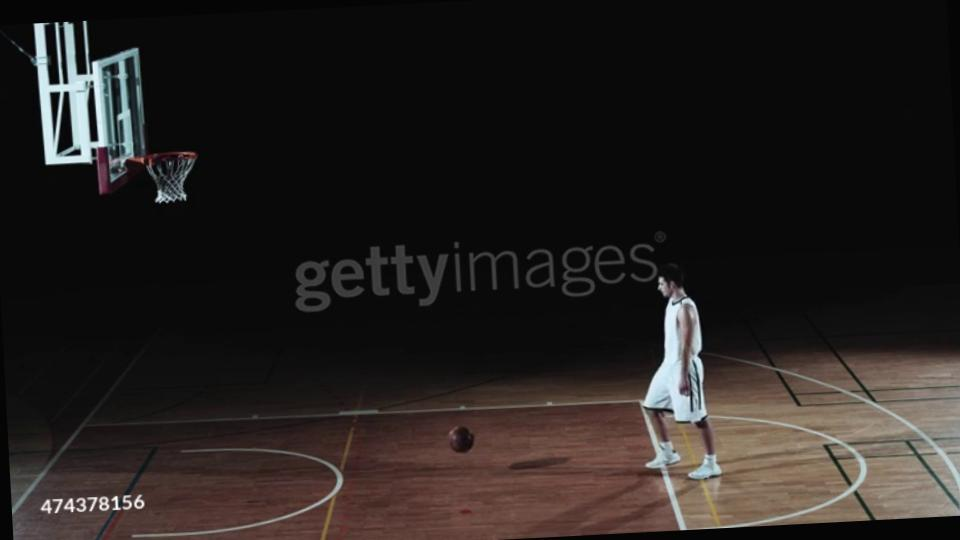hoop: (126, 147, 203, 172)
